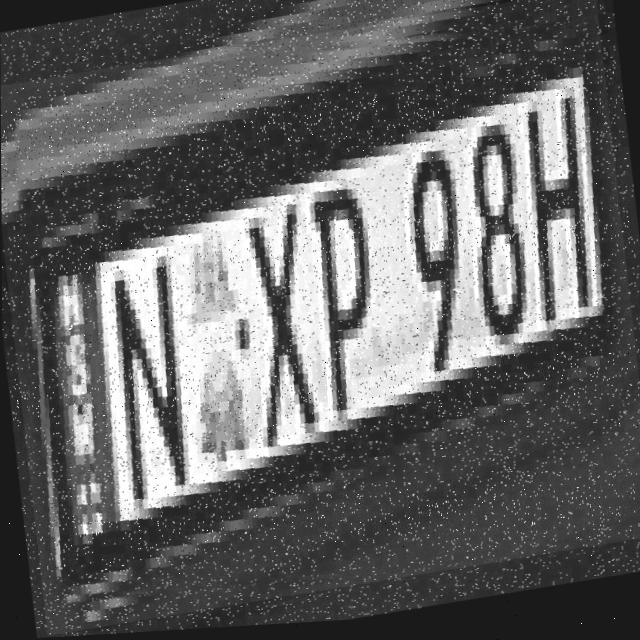LicensePlate: (0, 0, 640, 637)
